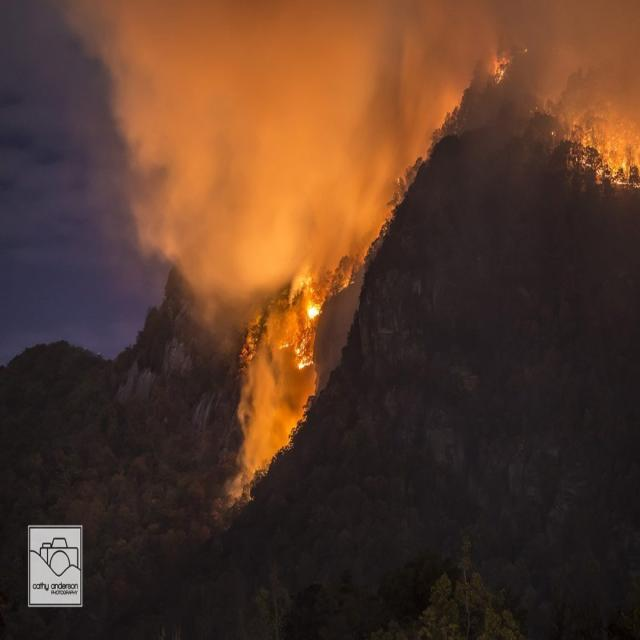Fire: (435, 10, 637, 132), (579, 136, 640, 187), (280, 340, 318, 377), (491, 52, 512, 88), (302, 298, 328, 324)
Smoke: (106, 0, 418, 248), (232, 322, 297, 470)
